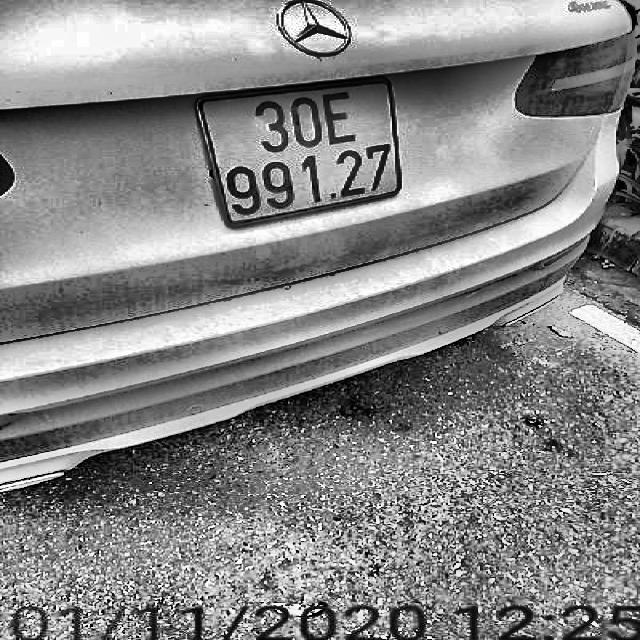plate: (190, 75, 412, 231)
